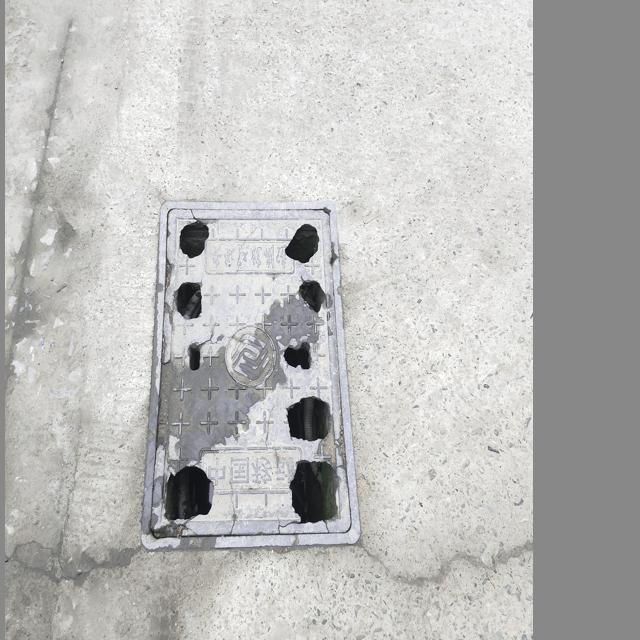broke: (140, 200, 362, 552)
